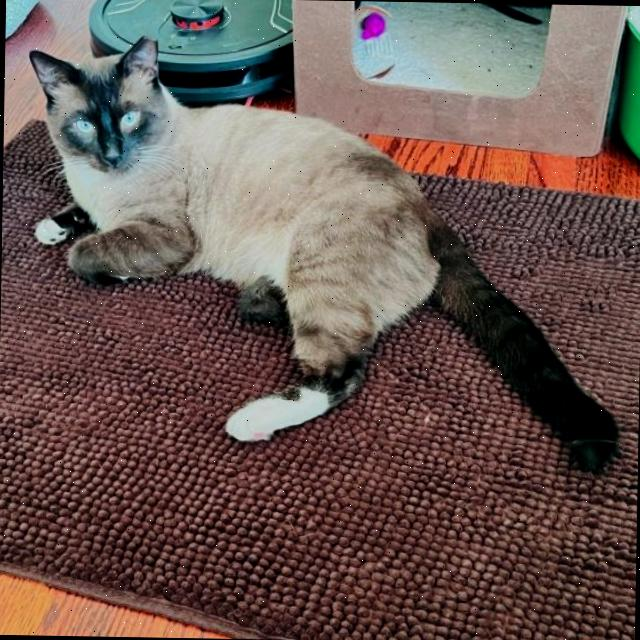siamese_cat: (21, 30, 191, 188)
